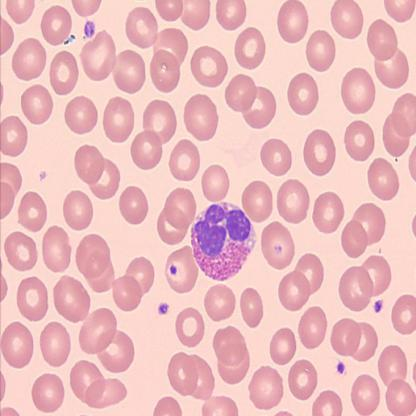Eosinophil: (193, 201, 259, 280)
